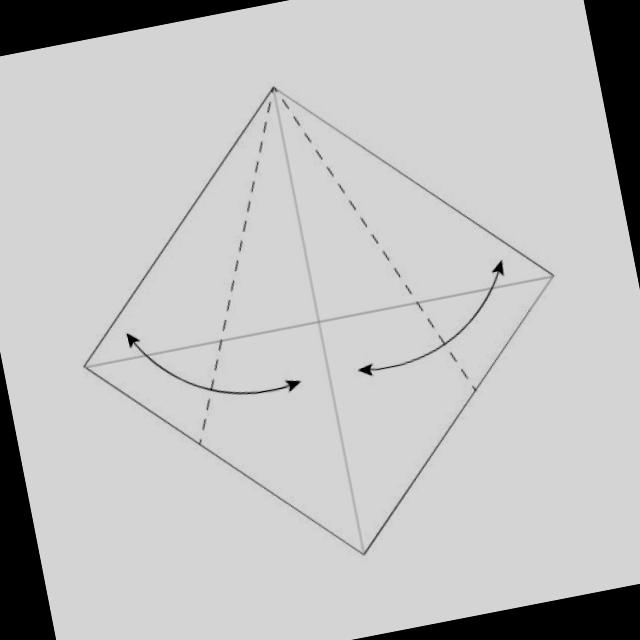arrow: (359, 260, 503, 375), (125, 333, 299, 394)
fold-line: (266, 87, 491, 404), (77, 266, 563, 378), (266, 80, 372, 556), (179, 88, 290, 455)
